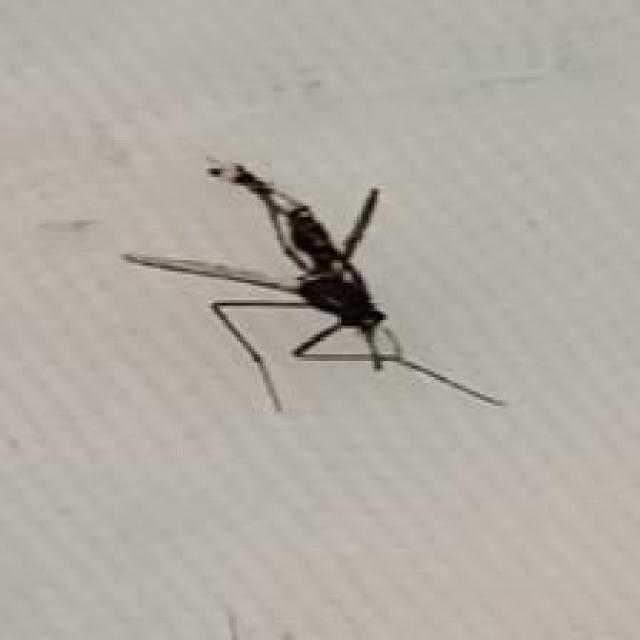Aedes albopictus: (120, 154, 509, 414)
